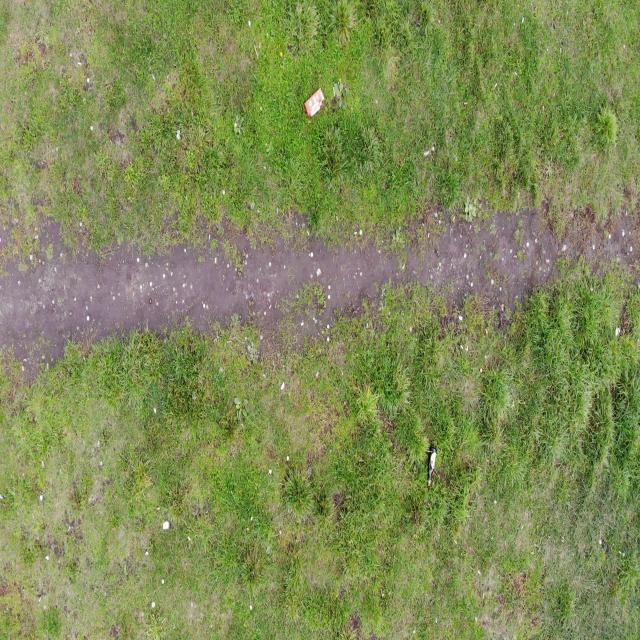rubbish: (302, 89, 326, 120), (426, 439, 438, 486)
